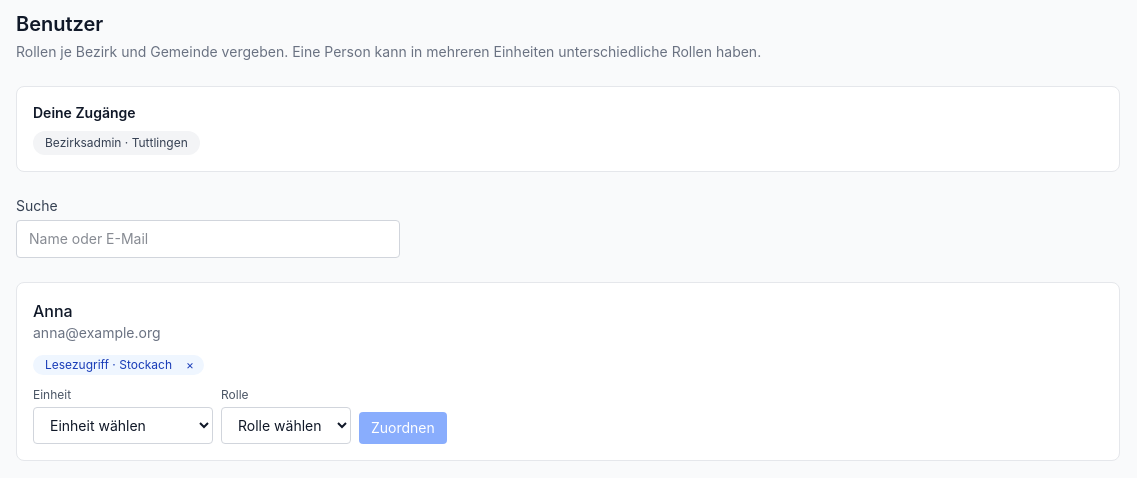
Test: UsersAdminView › removes one membership after confirmation
This screenshot has width=1137, height=478.
Step 1. Click the button named "Lesezugriff in Stockach entfernen" → (190, 365), box [180,357,200,373]
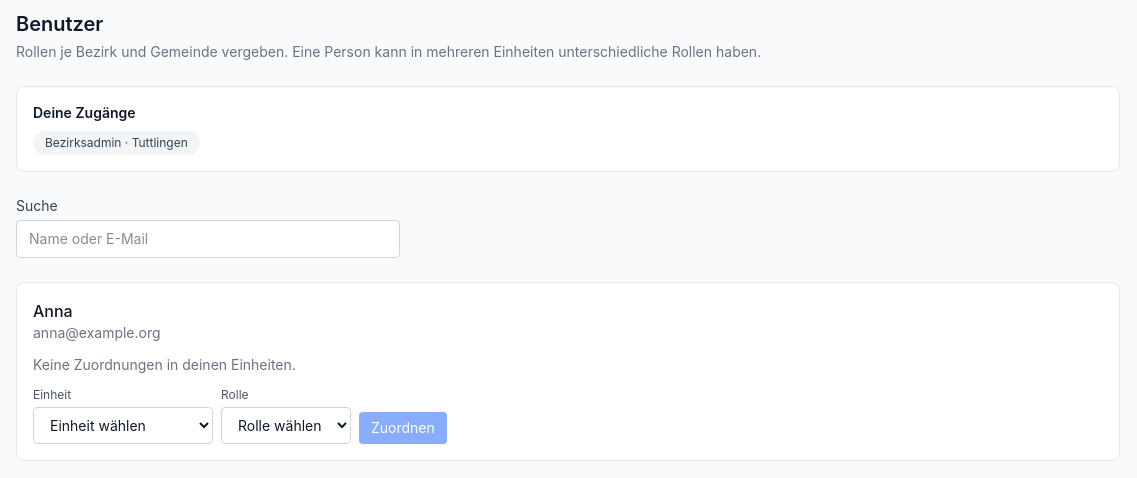
Check: the text "Keine Zuordnungen in deinen Einheiten." is shown, box [33,356,296,373]
